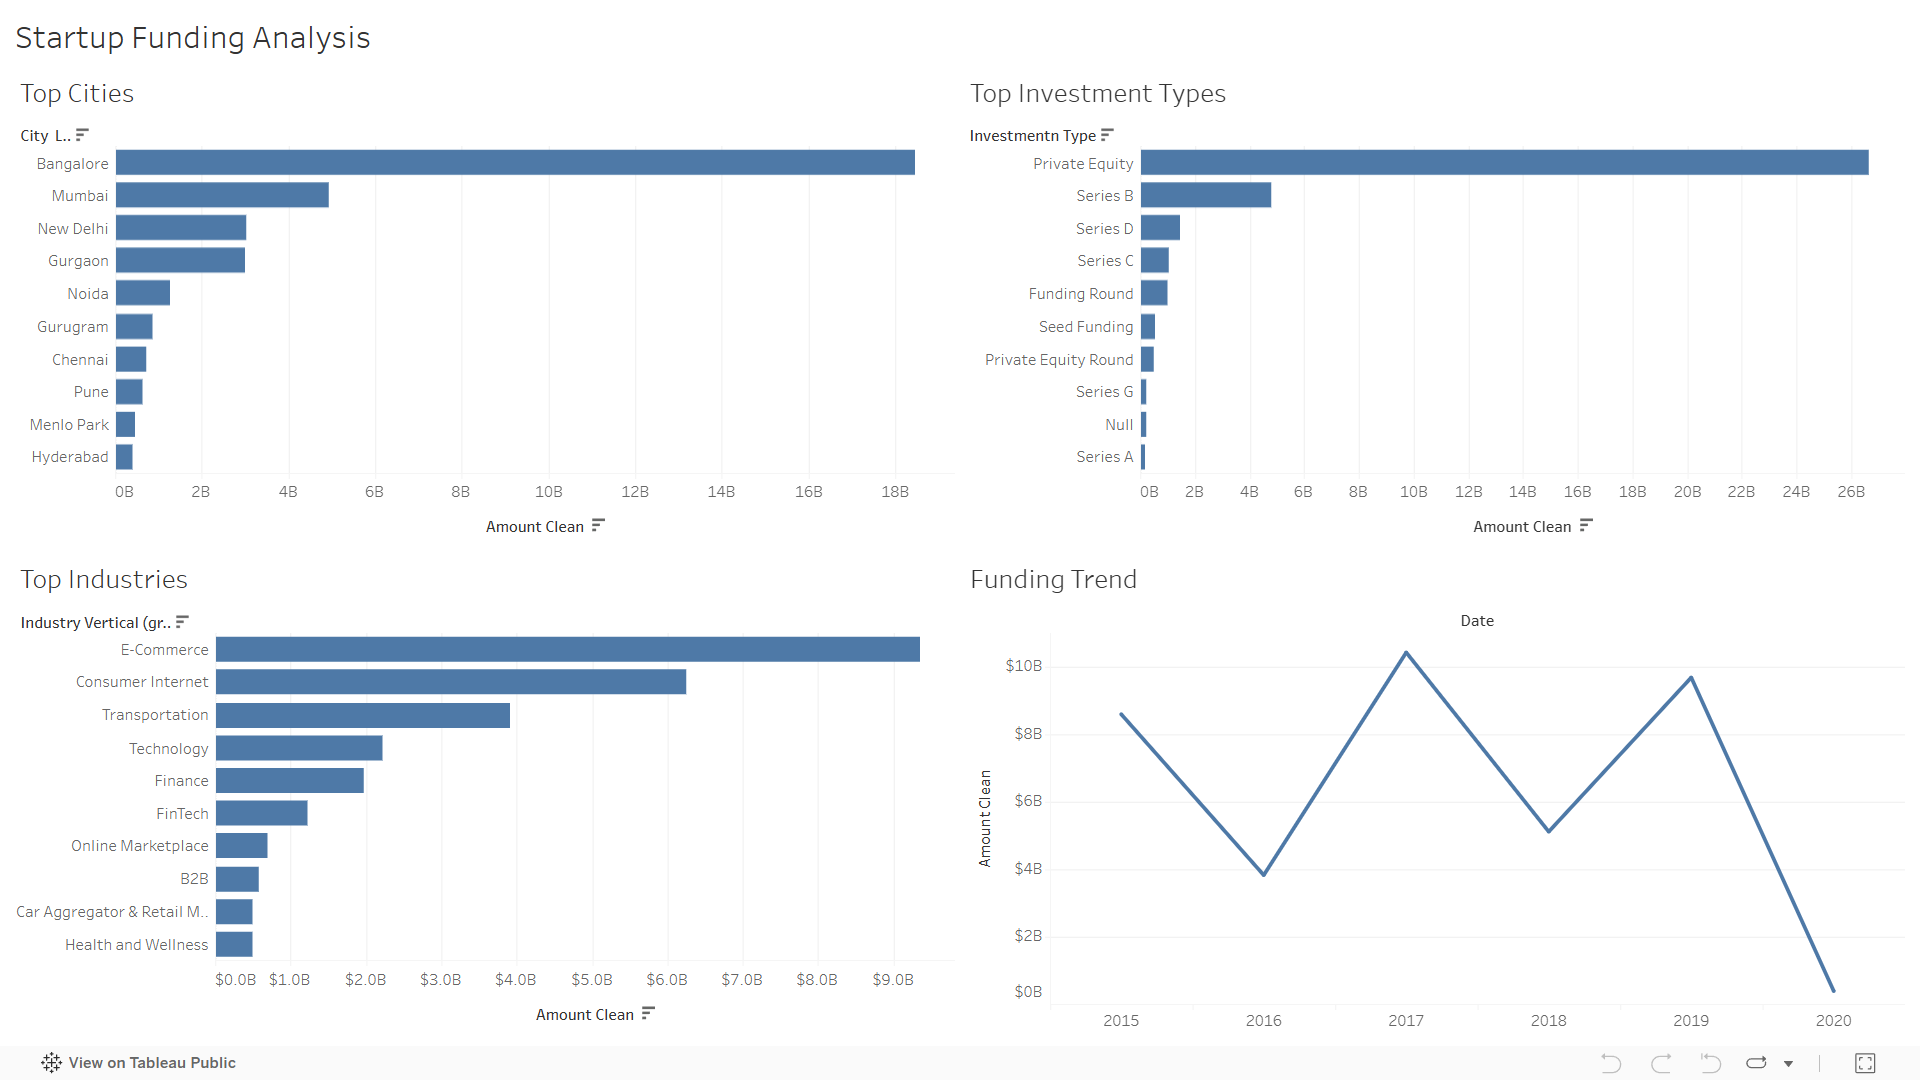

What the dashboard file says about the page in this screenshot:
{"tool":"tableau","page":{"name":"Startup Funding Analysis","canvas":[1000,1000],"units":"permille","ordinal":0},"visuals":[{"type":"title","box":[4.8,10,990.4,62.4]},{"type":"worksheet","title":"Top Cities","mark":"Automatic","cols":["Amount_Clean"],"box":[4.8,72.4,495.2,458.8]},{"type":"worksheet","title":"Top Investment Types","mark":"Automatic","rows":["InvestmentnType"],"cols":["Amount_Clean"],"box":[500,72.4,495.2,458.8]},{"type":"worksheet","title":"Top Industries","mark":"Automatic","cols":["Amount_Clean"],"box":[4.8,531.2,495.2,458.8]},{"type":"worksheet","title":"Funding Trend","mark":"Automatic","rows":["Amount_Clean"],"cols":["Date"],"box":[500,531.2,495.2,458.8]}]}

Visuals, with their boxes on the dashboard's canvas, which has no fixed pixel size, in thousandths of its width and height (x1, y1, x2, y2). These are canvas units, not pixel positions in the 1920x1080 screenshot, which may show the page scaled, cropped or inside an application window:
title: box=[5, 10, 995, 72]
"Top Cities" worksheet: box=[5, 72, 500, 531]
"Top Investment Types" worksheet: box=[500, 72, 995, 531]
"Top Industries" worksheet: box=[5, 531, 500, 990]
"Funding Trend" worksheet: box=[500, 531, 995, 990]
